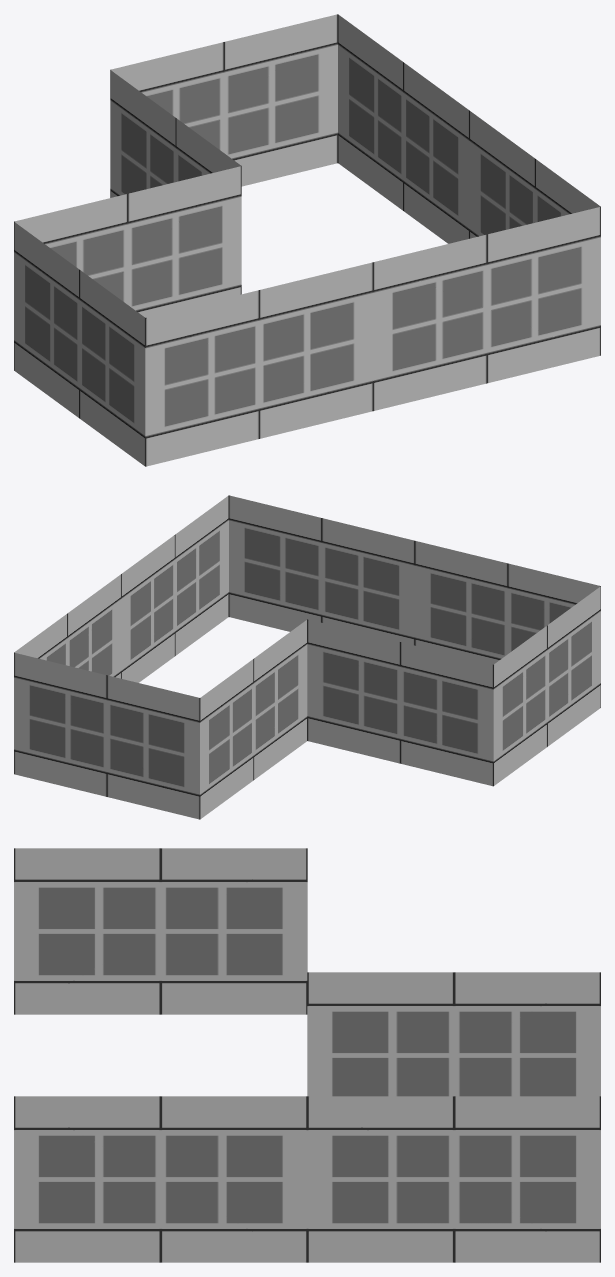
The model's file is highrise_3.glb.
3 views of the same model, one above another, from view 1: azimuth 30°, elevation 25°; view 2: azimuth 150°, elevation 25°; view 3: azimuth 270°, elevation 25° (orthographic). The views are drawn at different scales.
Parts seen in each view (by area): view 1: Highrise.3; view 2: Highrise.3; view 3: Highrise.3.
Boxes of the visible parts, <box> form: Highrise.3: <box>14,14,600,466</box>; Highrise.3: <box>14,495,600,819</box>; Highrise.3: <box>14,848,600,1262</box>.
Bounding box in the file's own units: 0.8 × 0.25 × 0.8.
Materials: 1 (1 with a texture image).
